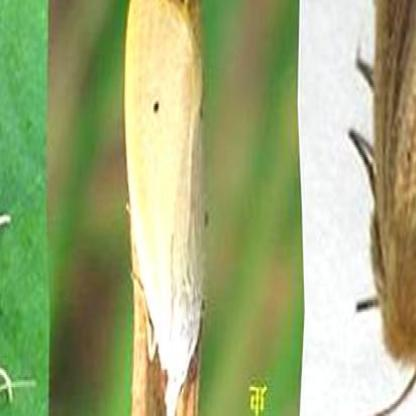stem-borer: (122, 0, 206, 416)
